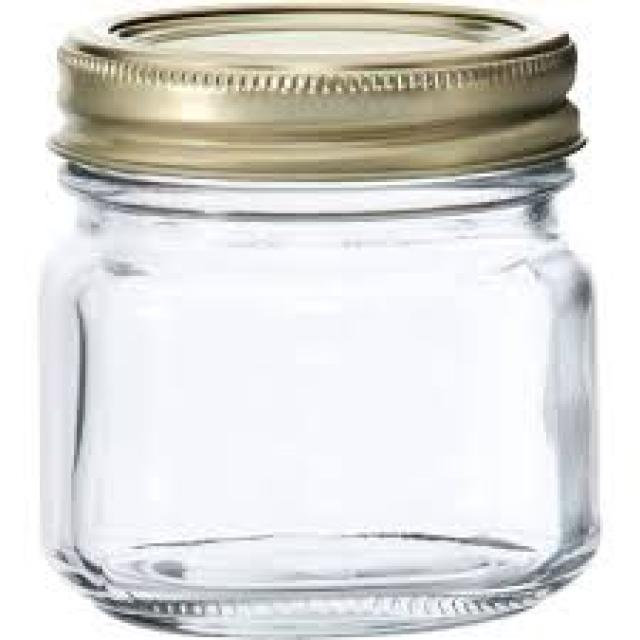glass: (37, 157, 600, 637)
metal: (46, 0, 581, 165)
